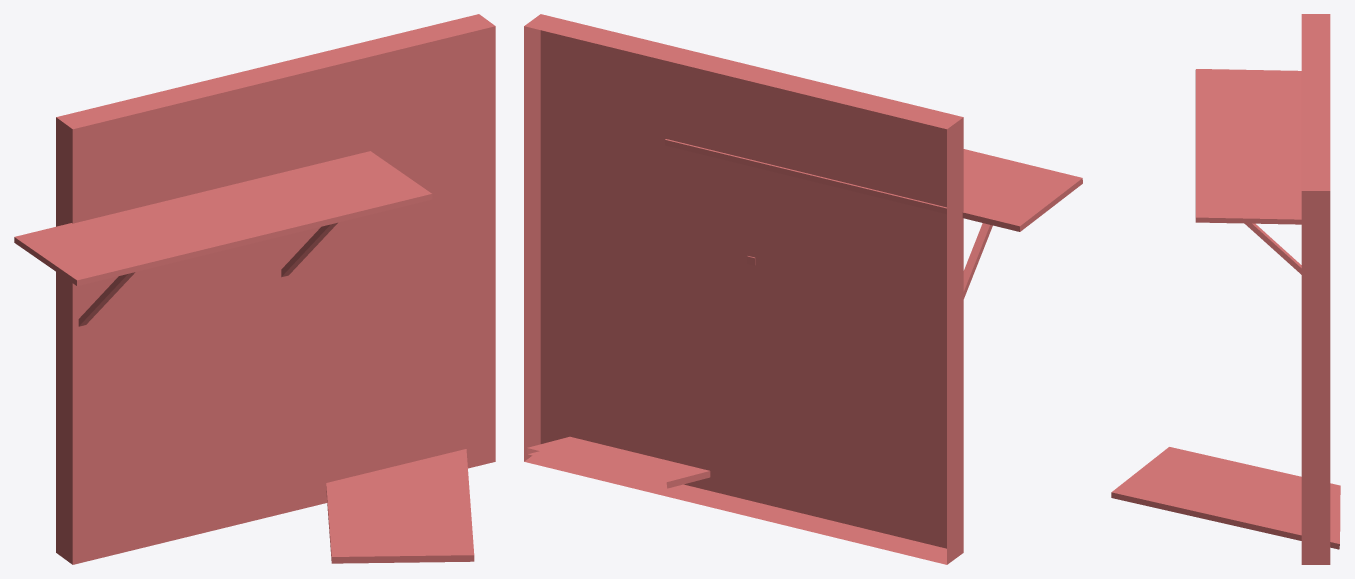
File: ScaffoldGroup_ThinWall_Collider.fbx
3 views of the same model, side by side, from view 1: azimuth 30°, elevation 25°; view 2: azimuth 150°, elevation 25°; view 3: azimuth 270°, elevation 25° (orthographic). The views are drawn at different scales.
Visible parts, largest first — view 1: ScaffoldGroup_ThinWall_Collider; view 2: ScaffoldGroup_ThinWall_Collider; view 3: ScaffoldGroup_ThinWall_Collider.
Boxes of the visible parts, bbox=[...] form: ScaffoldGroup_ThinWall_Collider: bbox=[14, 14, 495, 564]; ScaffoldGroup_ThinWall_Collider: bbox=[524, 14, 1082, 564]; ScaffoldGroup_ThinWall_Collider: bbox=[1111, 14, 1340, 564].
Bounding box in the file's own units: 16.68 × 14.46 × 8.03.
